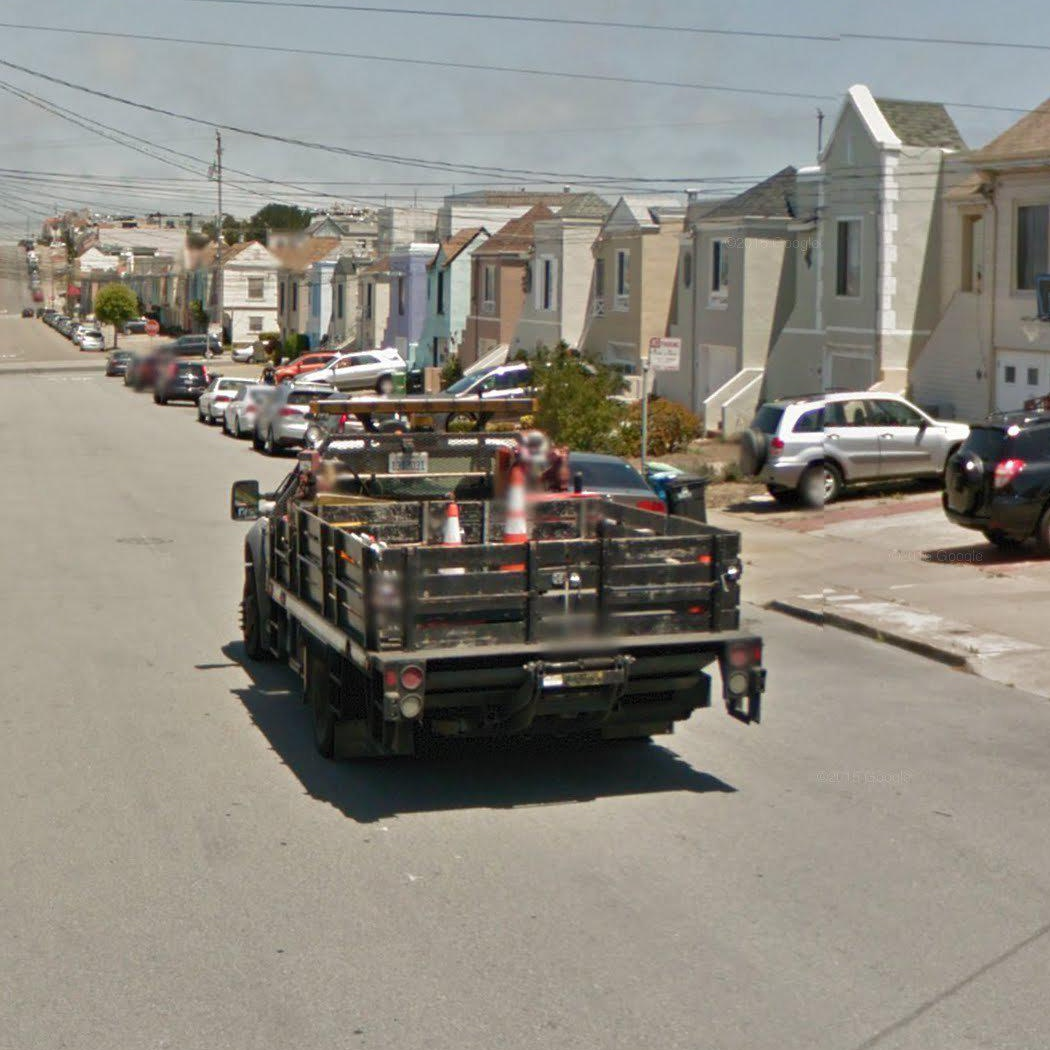No Parking: (648, 335, 682, 371)
